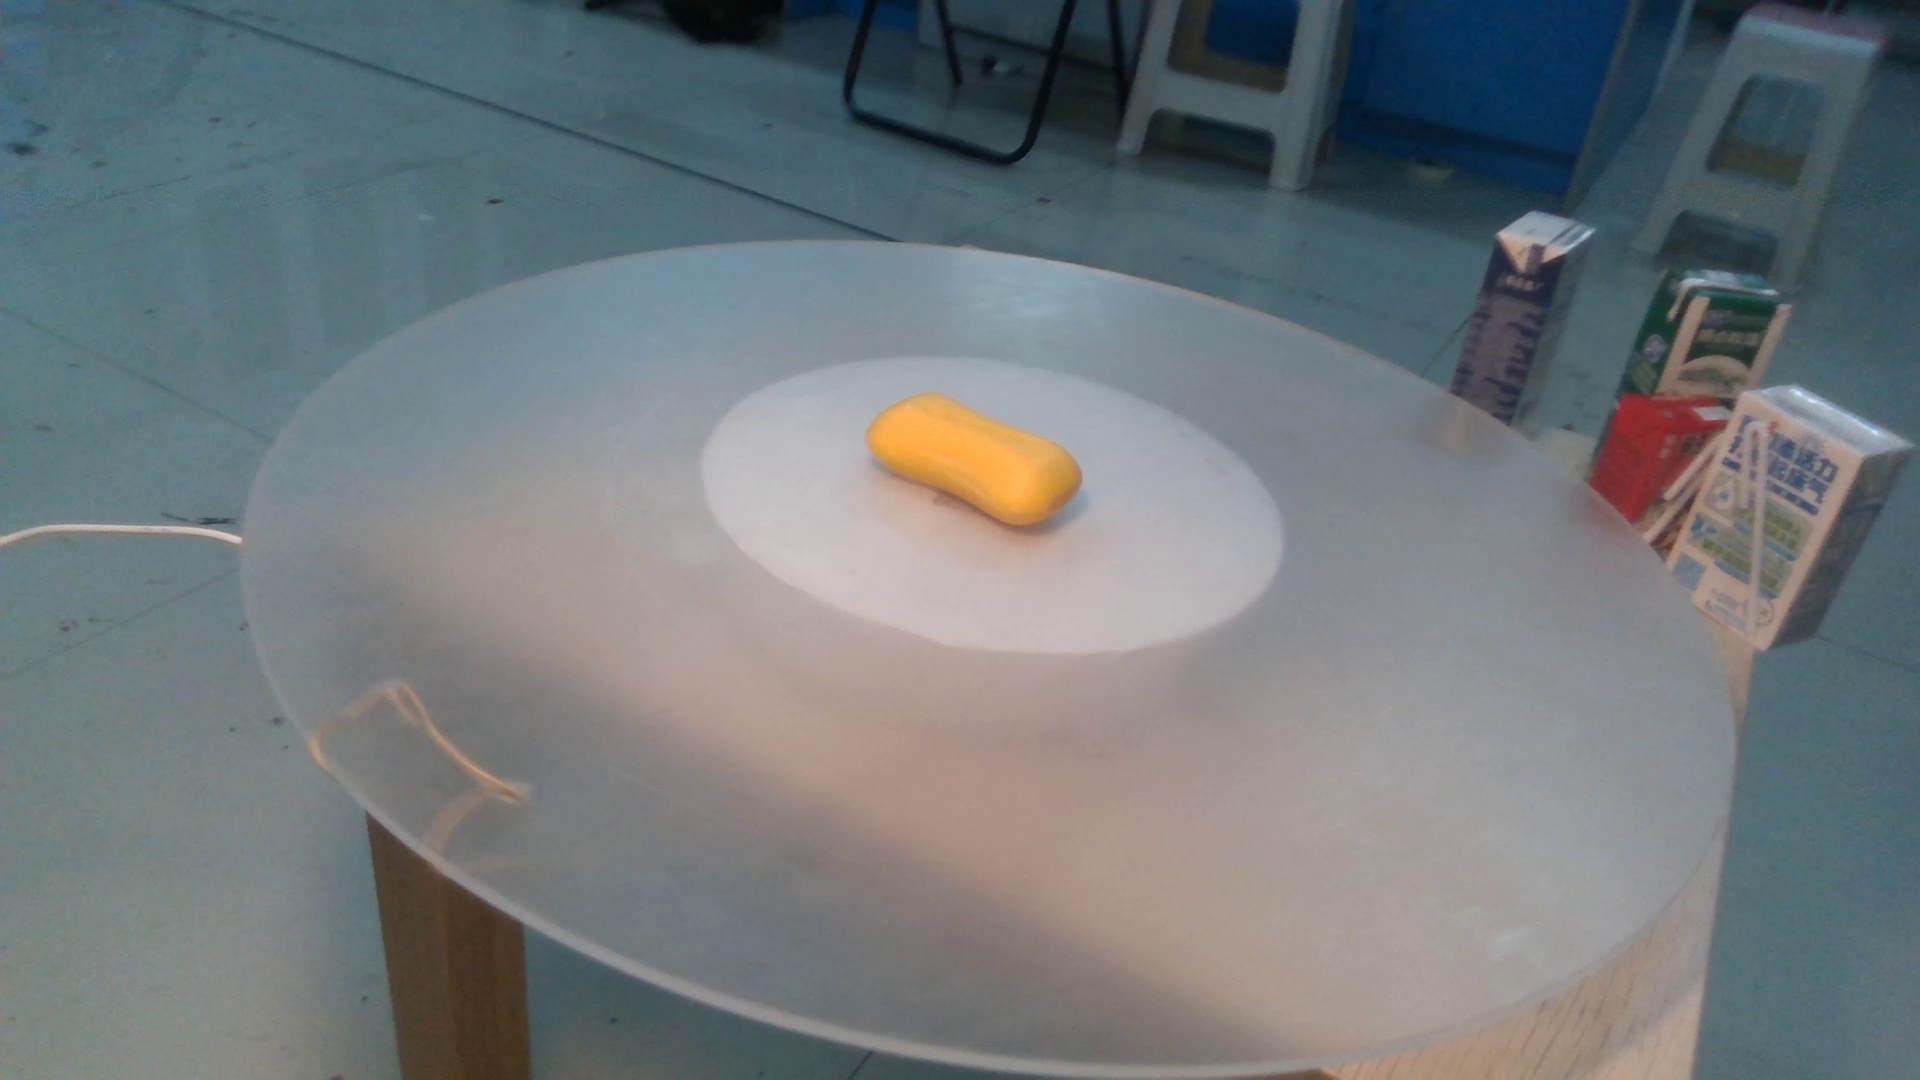CA003_1: (855, 398, 1095, 563)
